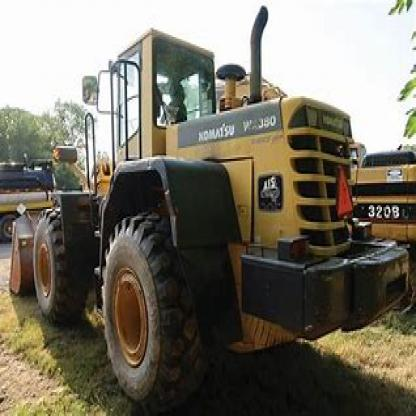bull_dozer/loader/grader: (6, 24, 410, 414)
